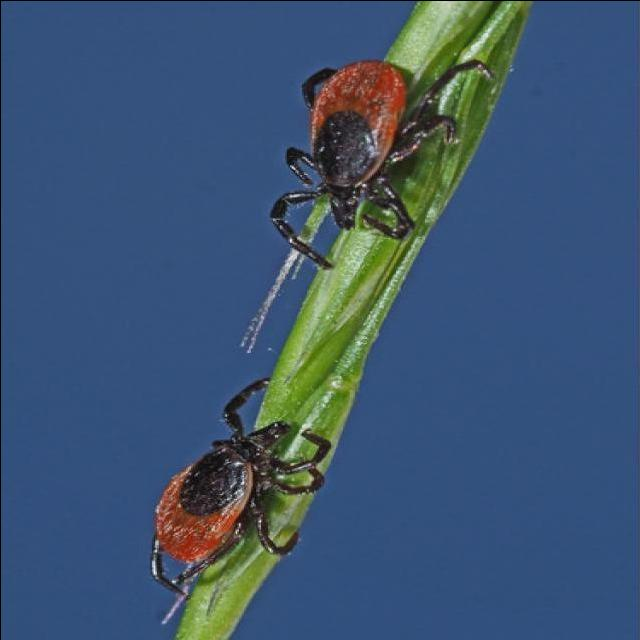Ixodes Ricinus-F: (270, 58, 493, 268), (150, 376, 333, 602)
